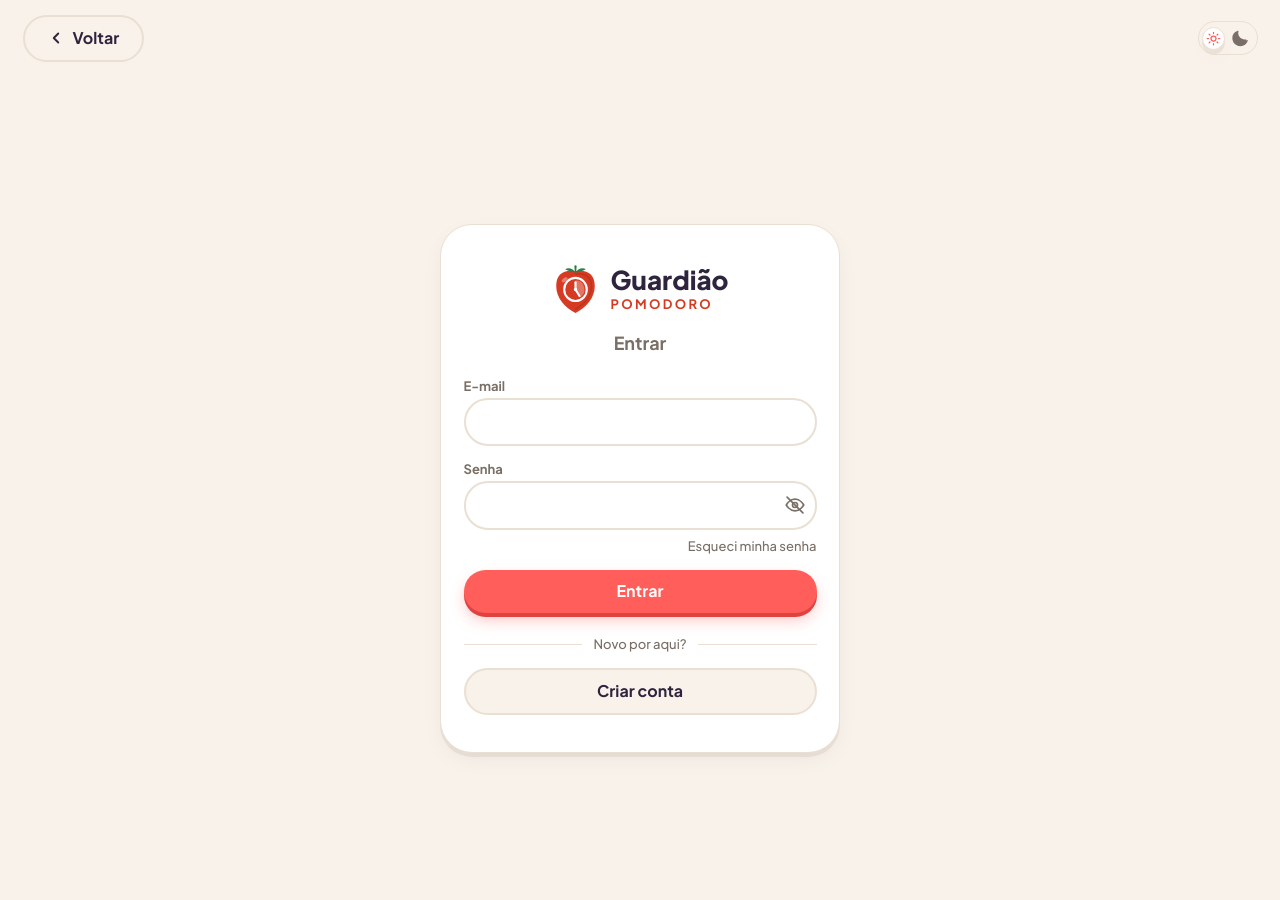
Test: LoginPage › login com dados locais pendentes mostra o diálogo de 3 opções ANTES de navegar (US-85)
The image size is (1280, 900).
Type "joao@email.com" into the field labelled "E-mail".
click(640, 422); type("joao@email.com")  # box [464,398,816,446]
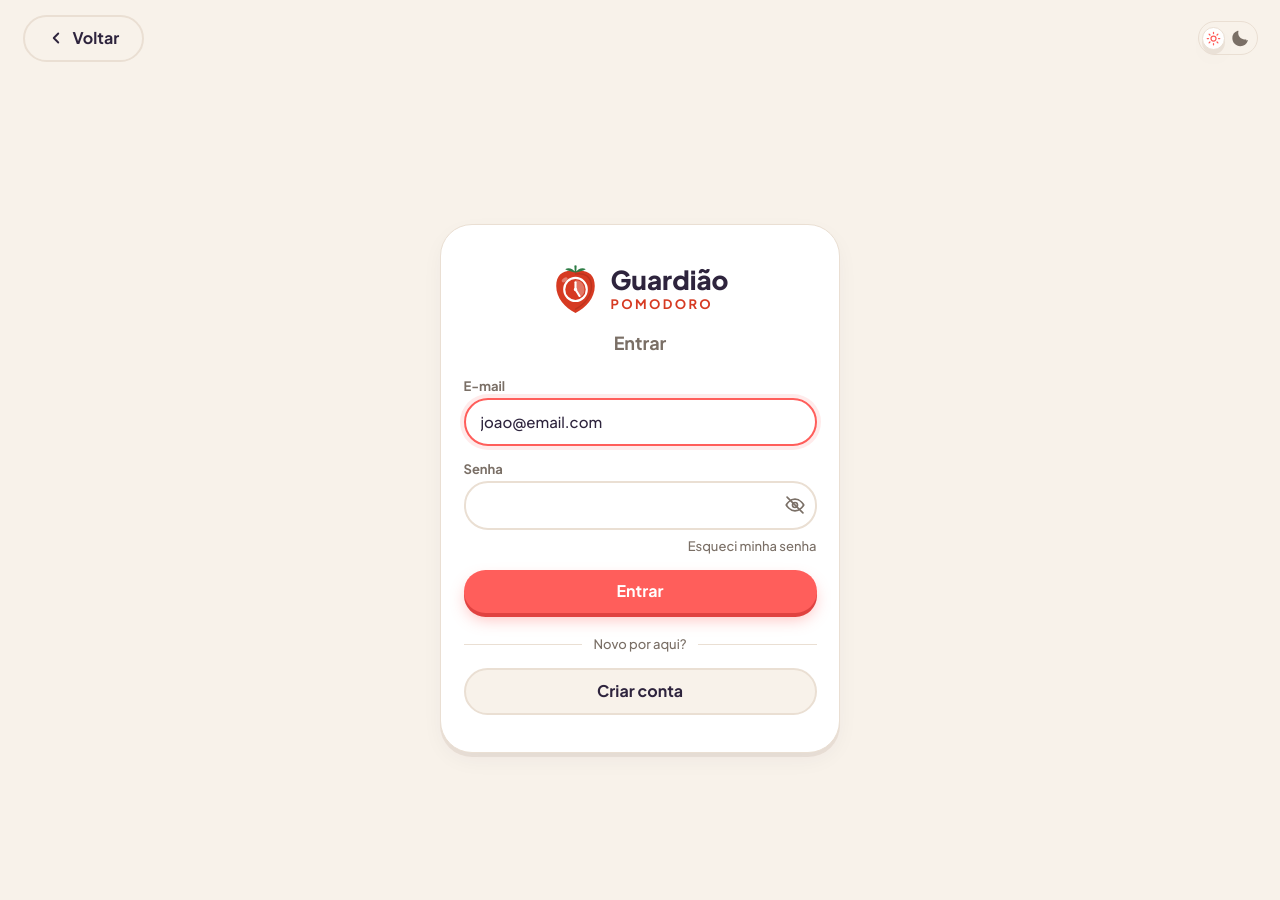
Type "correta" into the password field labelled "Senha".
click(640, 505); type("correta")  # box [464,481,816,530]
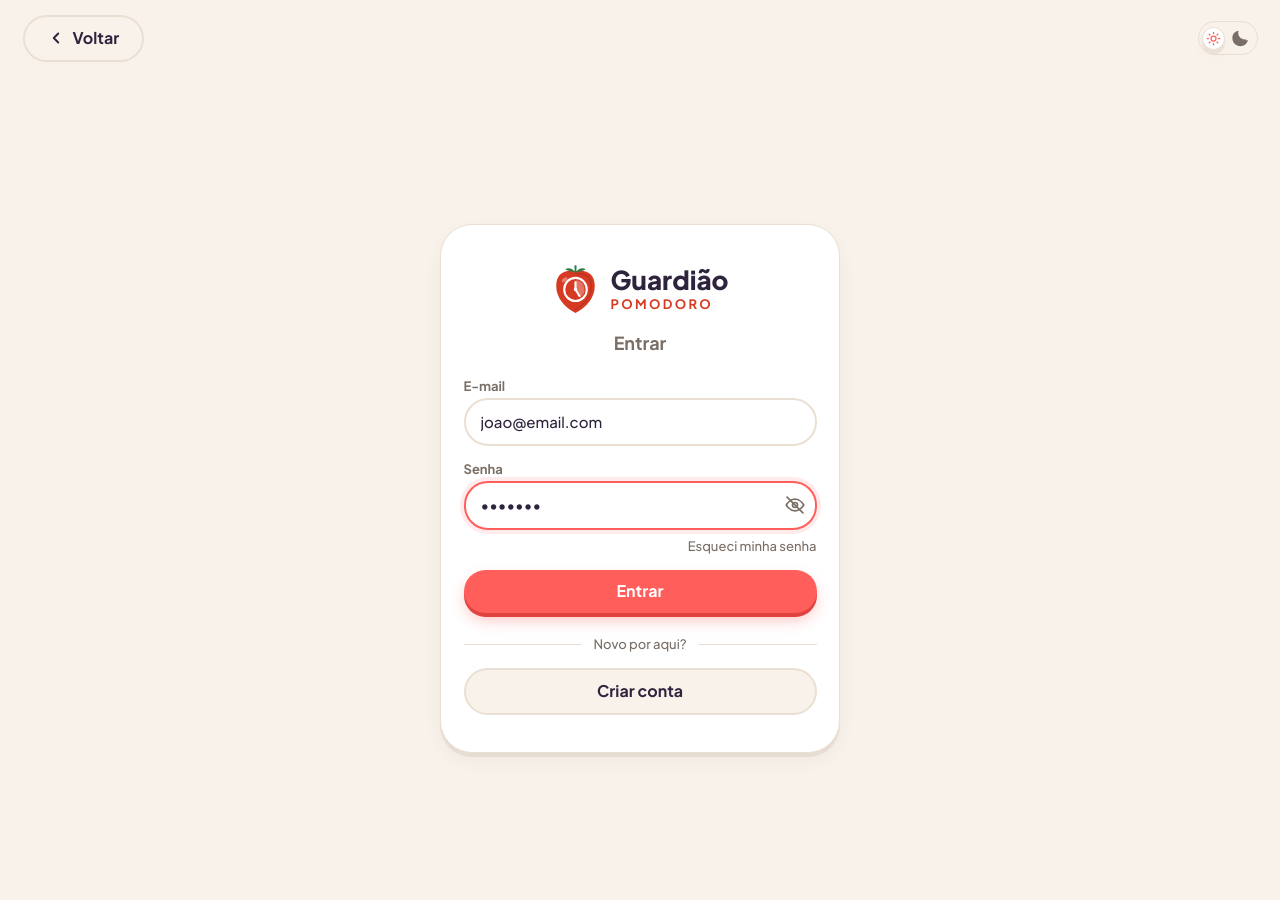
Click the button "Entrar".
click(640, 591)  # box [464,570,816,612]
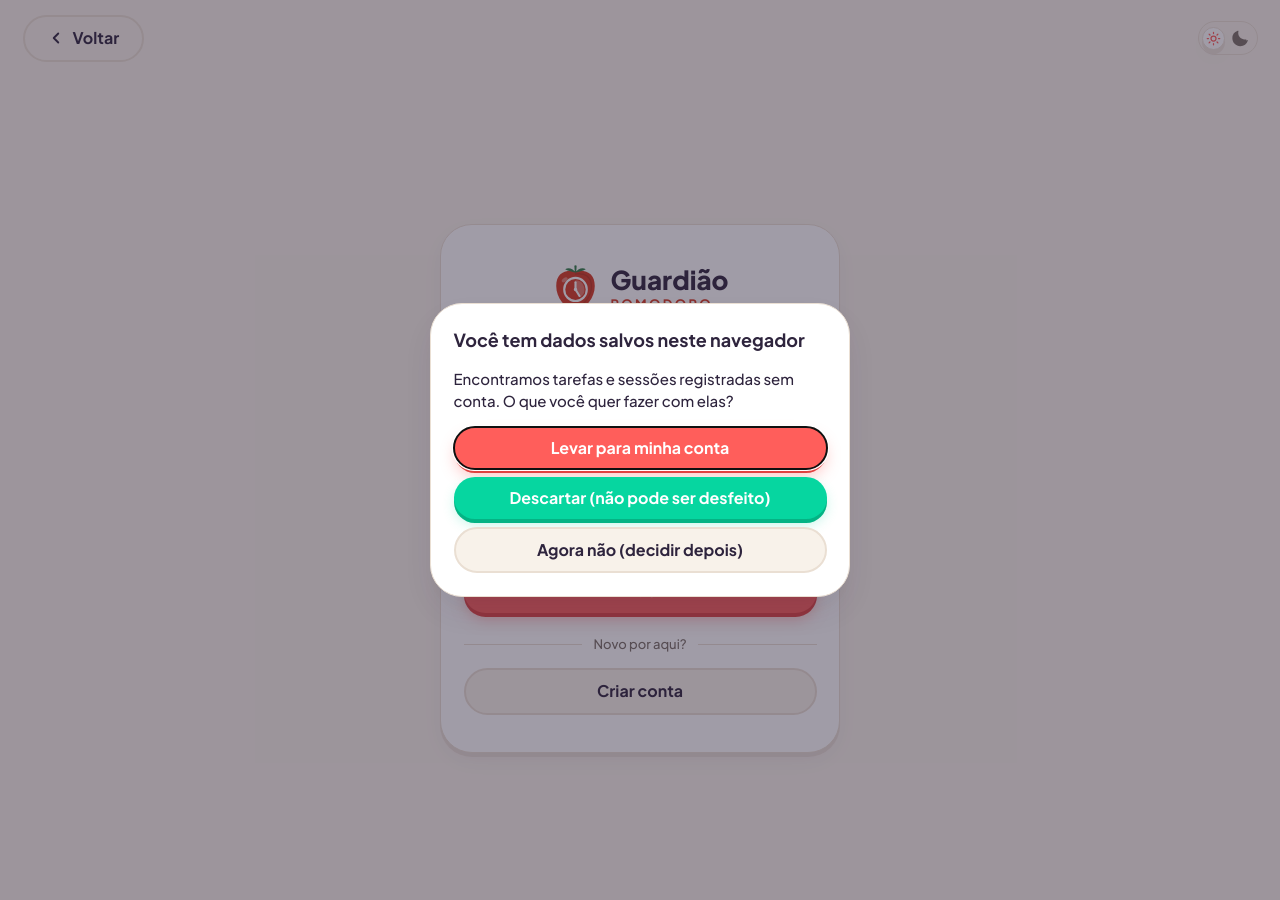
Expected: the heading "Você tem dados salvos neste navegador" is shown, [454,327,826,353]
